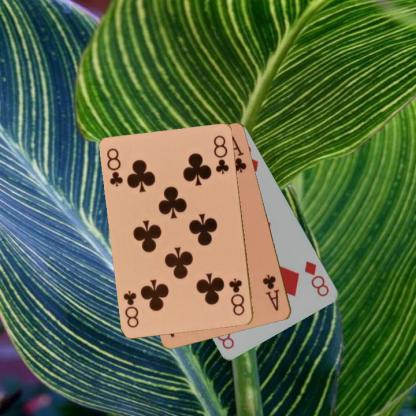8c: (104, 146, 125, 188), (227, 276, 246, 317)
8d: (302, 258, 331, 298)
Ac: (260, 272, 281, 312)
